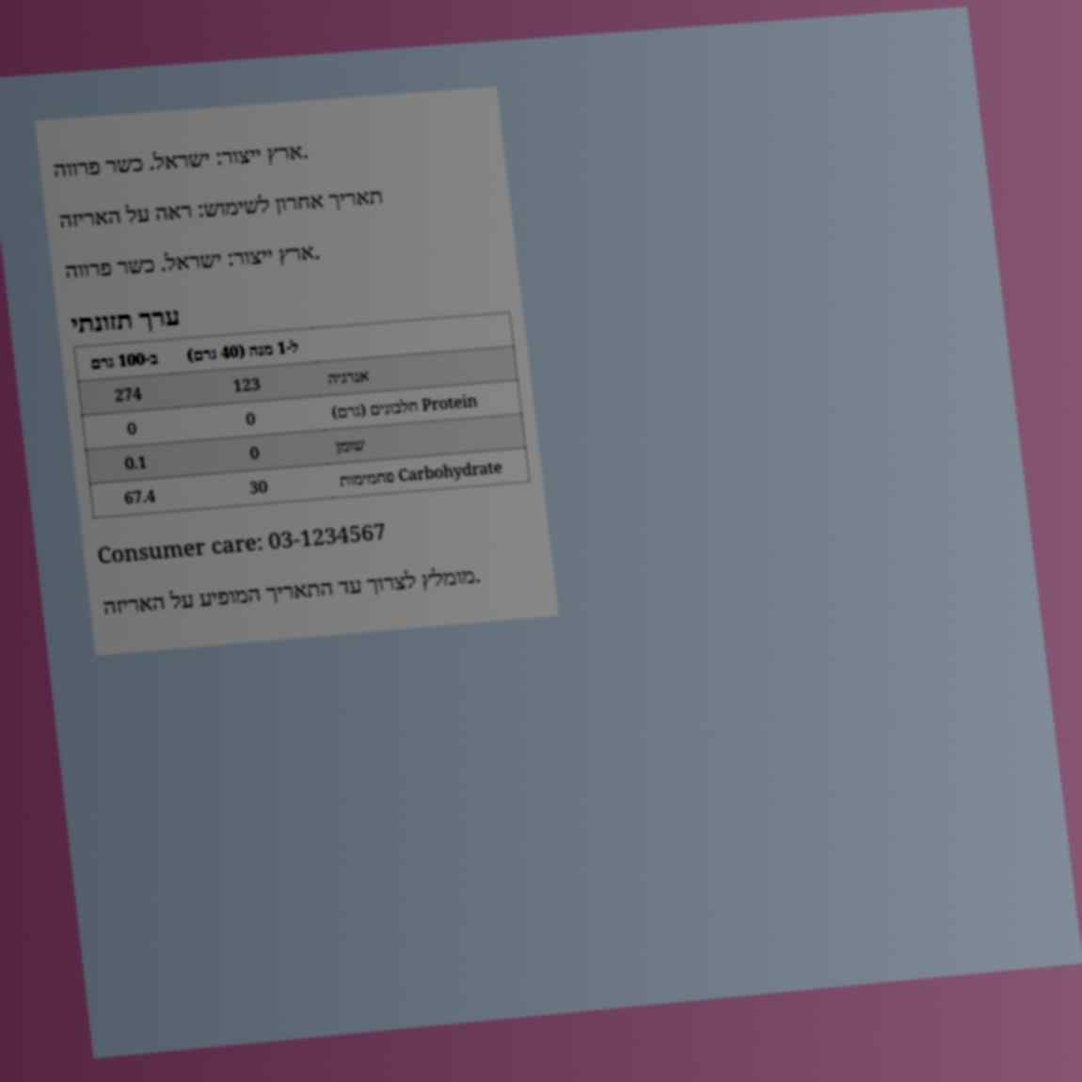carbs: (120, 482, 159, 512)
energy: (111, 380, 146, 409)
fat: (121, 448, 151, 477)
protein: (124, 415, 140, 442)
